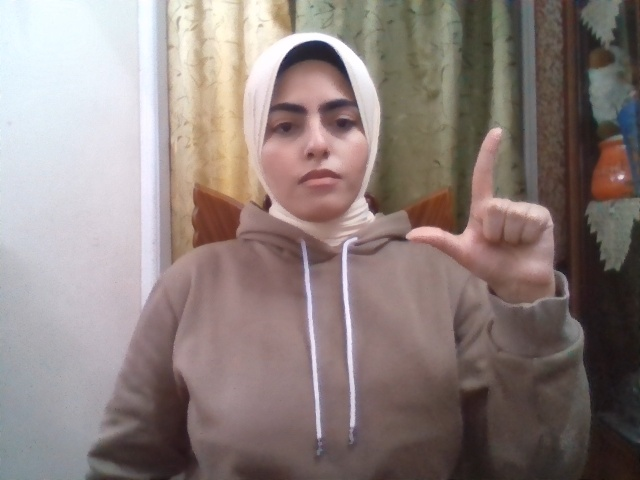L: (409, 127, 555, 290)
